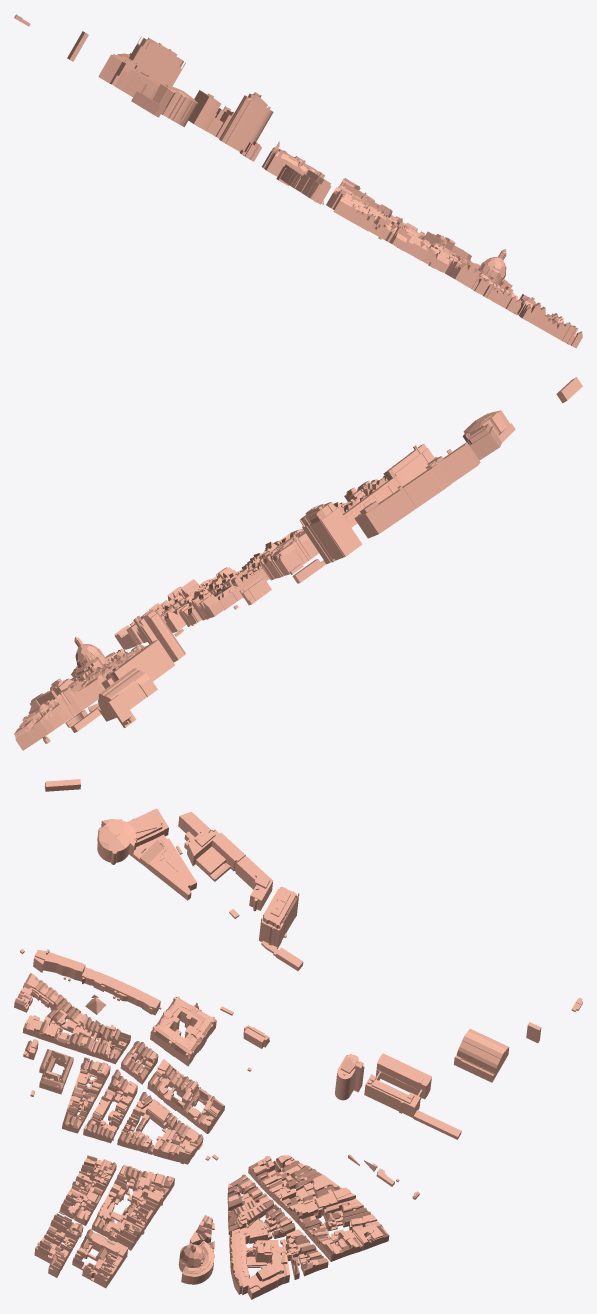
3 renders of one model, top to bottom at view 1: azimuth 30°, elevation 25°; view 2: azimuth 150°, elevation 25°; view 3: azimuth 270°, elevation 25°, orthographic. The views are drawn at different scales.
Size of the model in its own units: 1.6e+07 by 1.26e+07 by 1.96e+07.
